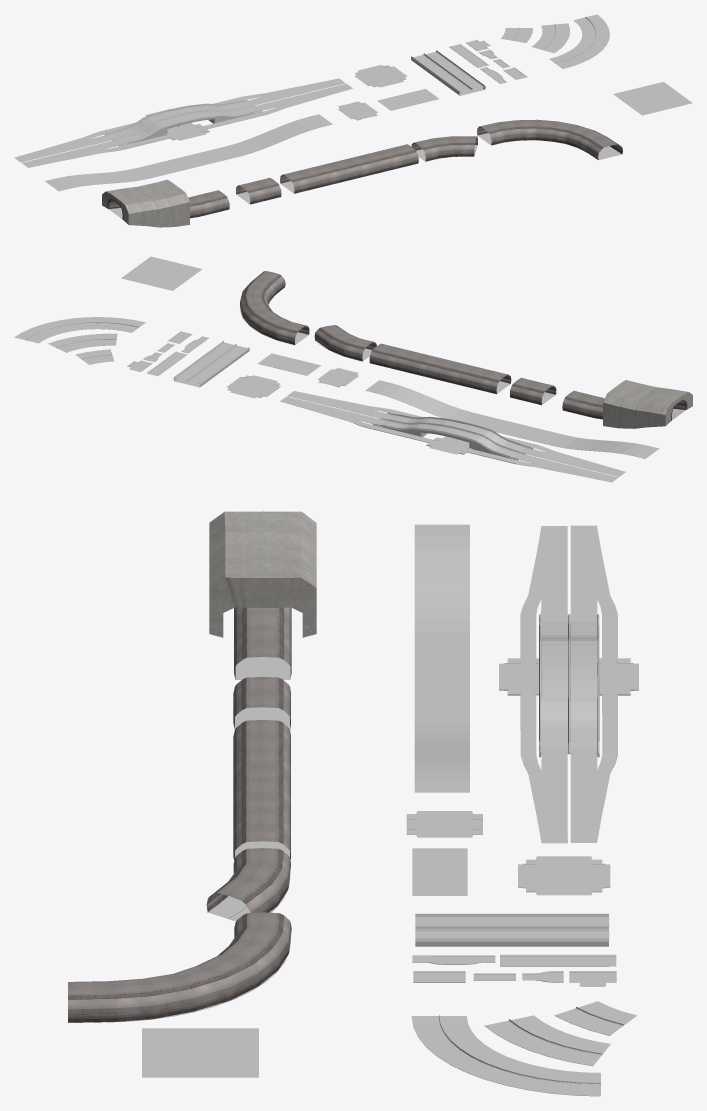
Rendered from maker_elements.fbx.
3 views of the same model, one above another, from view 1: azimuth 30°, elevation 25°; view 2: azimuth 150°, elevation 25°; view 3: azimuth 270°, elevation 25° (orthographic). The views are drawn at different scales.
Visible parts, largest first — view 1: roads.006, roads.001, roads.012, roads.016, roads.021, roads.011, roads.013, Plane.000, roads.015, roads.000, roads.004, roads.010 (+4 smaller); view 2: roads.006, roads.001, roads.012, roads.021, roads.016, roads.011, roads.013, Plane.000, roads.015, roads.000, roads.004, roads.010 (+4 smaller); view 3: roads.006, roads.001, roads.012, roads.016, roads.021, roads.013, roads.011, Plane.000, roads.015, roads.004, roads.010, roads.003 (+4 smaller).
Boxes of the visible parts, bbox=[...] form: roads.006: bbox=[14, 78, 352, 167]; roads.001: bbox=[102, 179, 229, 227]; roads.012: bbox=[45, 114, 332, 191]; roads.016: bbox=[477, 119, 622, 160]; roads.021: bbox=[280, 144, 418, 193]; roads.011: bbox=[549, 14, 609, 68]; roads.013: bbox=[411, 50, 485, 95]; Plane.000: bbox=[613, 82, 692, 115]; roads.015: bbox=[411, 136, 477, 161]; roads.000: bbox=[236, 178, 281, 204]; roads.004: bbox=[354, 65, 407, 87]; roads.010: bbox=[531, 23, 569, 53]; roads.006: bbox=[280, 391, 625, 482]; roads.001: bbox=[562, 380, 692, 428]; roads.012: bbox=[365, 380, 659, 458]; roads.021: bbox=[369, 343, 511, 394]; roads.016: bbox=[240, 271, 309, 345]; roads.011: bbox=[14, 317, 145, 343]; roads.013: bbox=[173, 340, 249, 387]; Plane.000: bbox=[121, 256, 202, 290]; roads.015: bbox=[314, 325, 376, 361]; roads.000: bbox=[510, 377, 556, 405]; roads.004: bbox=[227, 375, 280, 398]; roads.010: bbox=[48, 333, 117, 352]; roads.006: bbox=[499, 525, 638, 843]; roads.001: bbox=[209, 511, 316, 679]; roads.012: bbox=[414, 524, 469, 792]; roads.016: bbox=[68, 912, 291, 1022]; roads.021: bbox=[233, 720, 290, 860]; roads.013: bbox=[415, 913, 609, 946]; roads.011: bbox=[411, 1014, 600, 1096]; Plane.000: bbox=[142, 1028, 258, 1077]; roads.015: bbox=[206, 848, 290, 921]; roads.004: bbox=[518, 856, 610, 895]; roads.010: bbox=[484, 1015, 610, 1066]; roads.003: bbox=[412, 848, 467, 895].
Size of the model in its own units: 102739 by 5650 by 43416.
